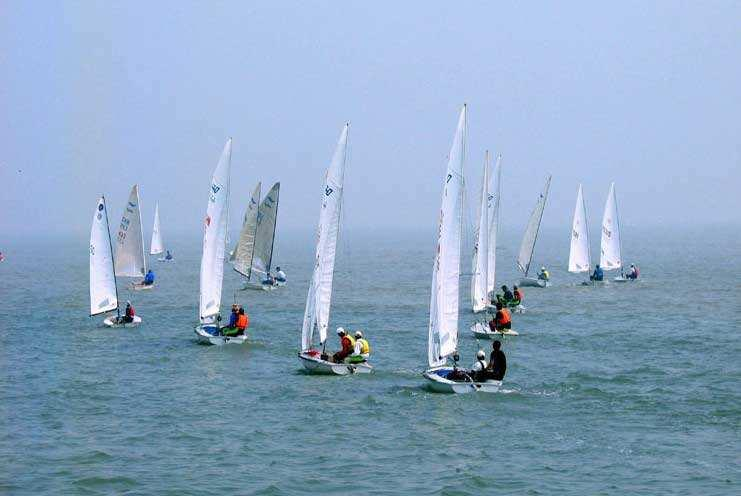fanchuan: (422, 103, 521, 395), (298, 119, 378, 379), (188, 134, 251, 347), (84, 191, 141, 328), (234, 175, 291, 300), (111, 182, 158, 292), (569, 181, 604, 290), (522, 173, 554, 285), (602, 181, 638, 279), (150, 194, 173, 264)
